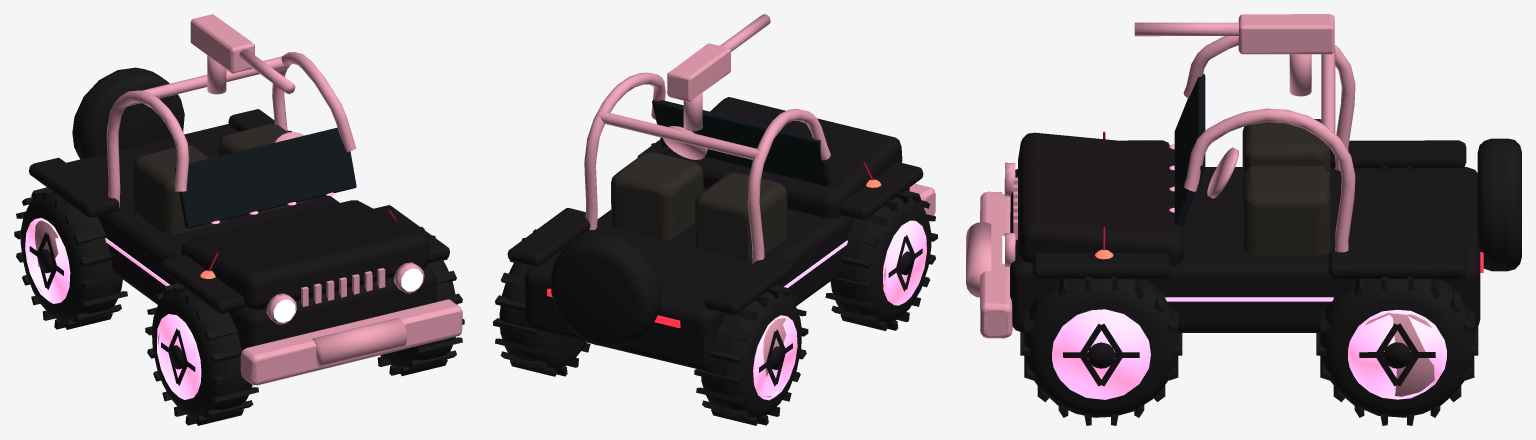
Rendered from jeep_sakura.glb.
3 renders of one model, left to right at view 1: azimuth 30°, elevation 25°; view 2: azimuth 150°, elevation 25°; view 3: azimuth 270°, elevation 25°, orthographic. The views are drawn at different scales.
Visible parts, largest first — view 1: krop_net; view 2: krop_net; view 3: krop_net.
Part boxes in pixels (<box>): krop_net: <box>14,14,464,425</box>; krop_net: <box>493,14,937,425</box>; krop_net: <box>966,14,1521,425</box>.
Size of the model in its own units: 1.04 by 1.15 by 1.71.
